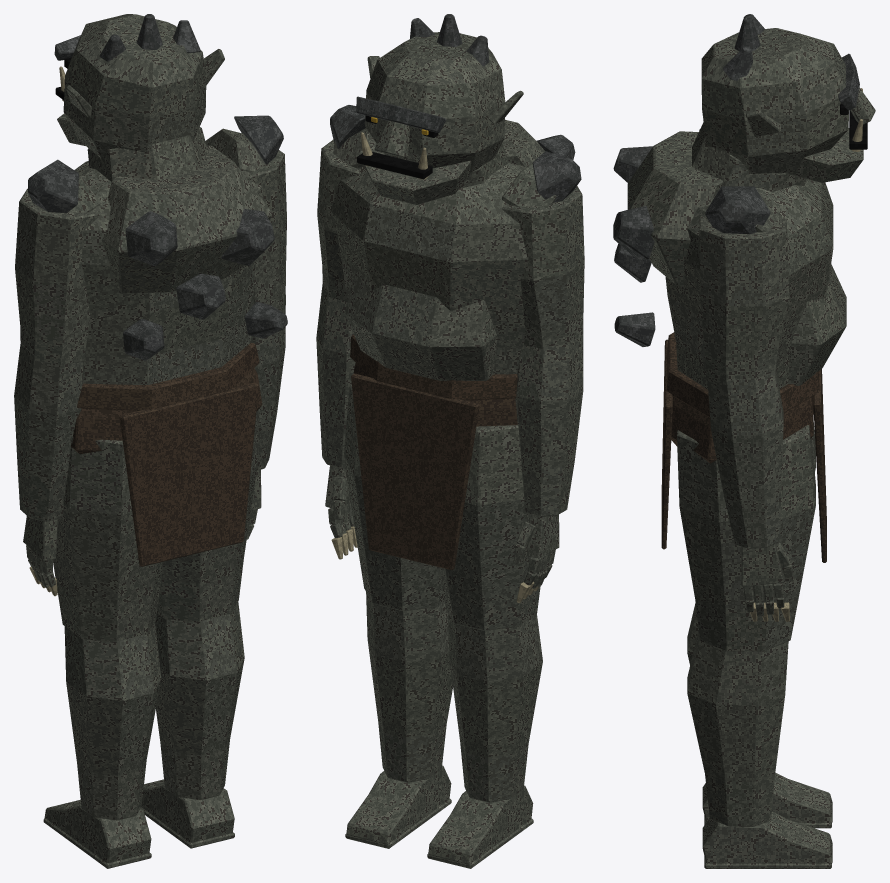
Rendered from troll.glb.
The picture shows the model from 3 angles, left to right: view 1: azimuth 30°, elevation 25°; view 2: azimuth 150°, elevation 25°; view 3: azimuth 270°, elevation 25°; orthographic projection.
Parts seen in each view (by area): view 1: tors, miednica, glowa, udo_l, golen_l, golen_p, ramie_l, przedramie_l, ramie_p, udo_p, stopa_l, stopa_p (+2 smaller); view 2: tors, miednica, glowa, golen_l, udo_l, golen_p, ramie_l, przedramie_l, udo_p, stopa_p, stopa_l, przedramie_p (+3 smaller); view 3: tors, glowa, udo_p, ramie_p, golen_p, przedramie_p, miednica, stopa_p, dlon_p, stopa_l.
Part boxes in pixels (<box>): tors: <box>74,145,287,384</box>; miednica: <box>71,343,262,566</box>; glowa: <box>54,14,224,181</box>; udo_l: <box>53,437,163,642</box>; golen_l: <box>64,623,161,820</box>; golen_p: <box>155,602,244,800</box>; ramie_l: <box>15,159,100,364</box>; przedramie_l: <box>14,343,83,521</box>; ramie_p: <box>205,115,286,310</box>; udo_p: <box>156,409,258,622</box>; stopa_l: <box>43,799,151,868</box>; stopa_p: <box>140,779,234,848</box>; tors: <box>330,119,575,380</box>; miednica: <box>350,335,517,570</box>; glowa: <box>356,14,523,204</box>; golen_l: <box>448,613,542,802</box>; udo_l: <box>439,425,540,630</box>; golen_p: <box>366,592,452,782</box>; ramie_l: <box>502,151,584,348</box>; przedramie_l: <box>515,335,583,516</box>; udo_p: <box>344,385,444,610</box>; stopa_p: <box>345,765,451,848</box>; stopa_l: <box>427,785,533,868</box>; przedramie_p: <box>316,283,355,468</box>; tors: <box>613,131,846,389</box>; glowa: <box>692,14,875,191</box>; udo_p: <box>677,425,815,651</box>; ramie_p: <box>699,186,789,384</box>; golen_p: <box>687,629,788,826</box>; przedramie_p: <box>707,368,783,548</box>; miednica: <box>661,332,826,562</box>; stopa_p: <box>702,811,832,868</box>; dlon_p: <box>741,543,794,621</box>; stopa_l: <box>702,772,832,828</box>.
Size of the model in its own units: 0.5972 by 1.83 by 0.5315.
Materials: 6 (6 with a texture image).
